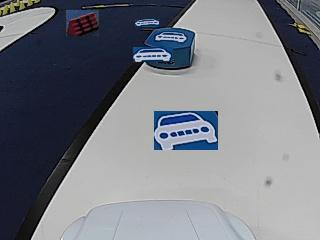safety: (155, 31, 187, 42)
